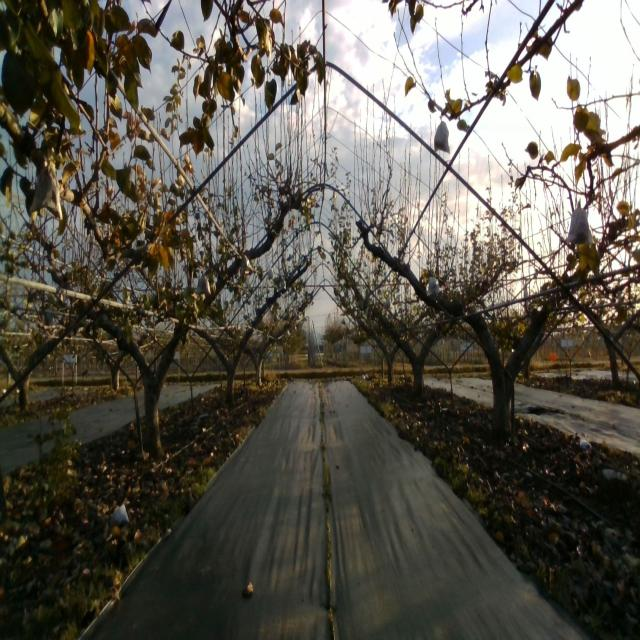pearbags: (29, 158, 63, 220), (567, 200, 593, 245), (434, 117, 449, 153), (196, 273, 211, 296), (426, 276, 440, 298), (240, 255, 253, 278)
